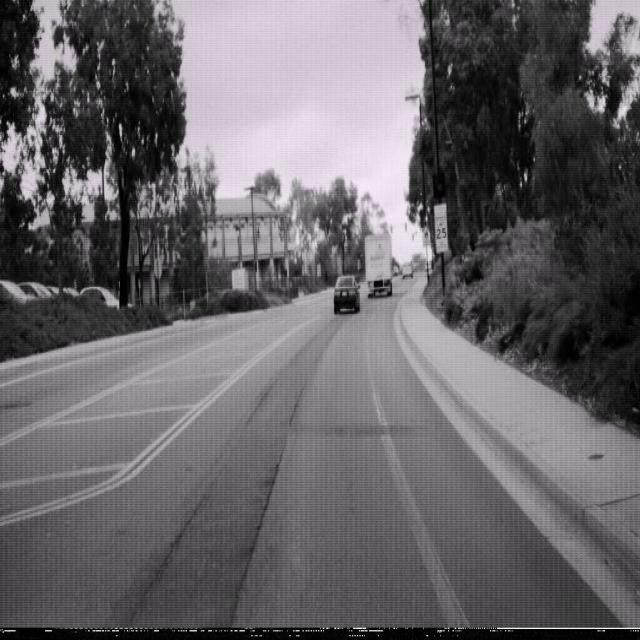speedLimit25: (433, 201, 448, 254)
